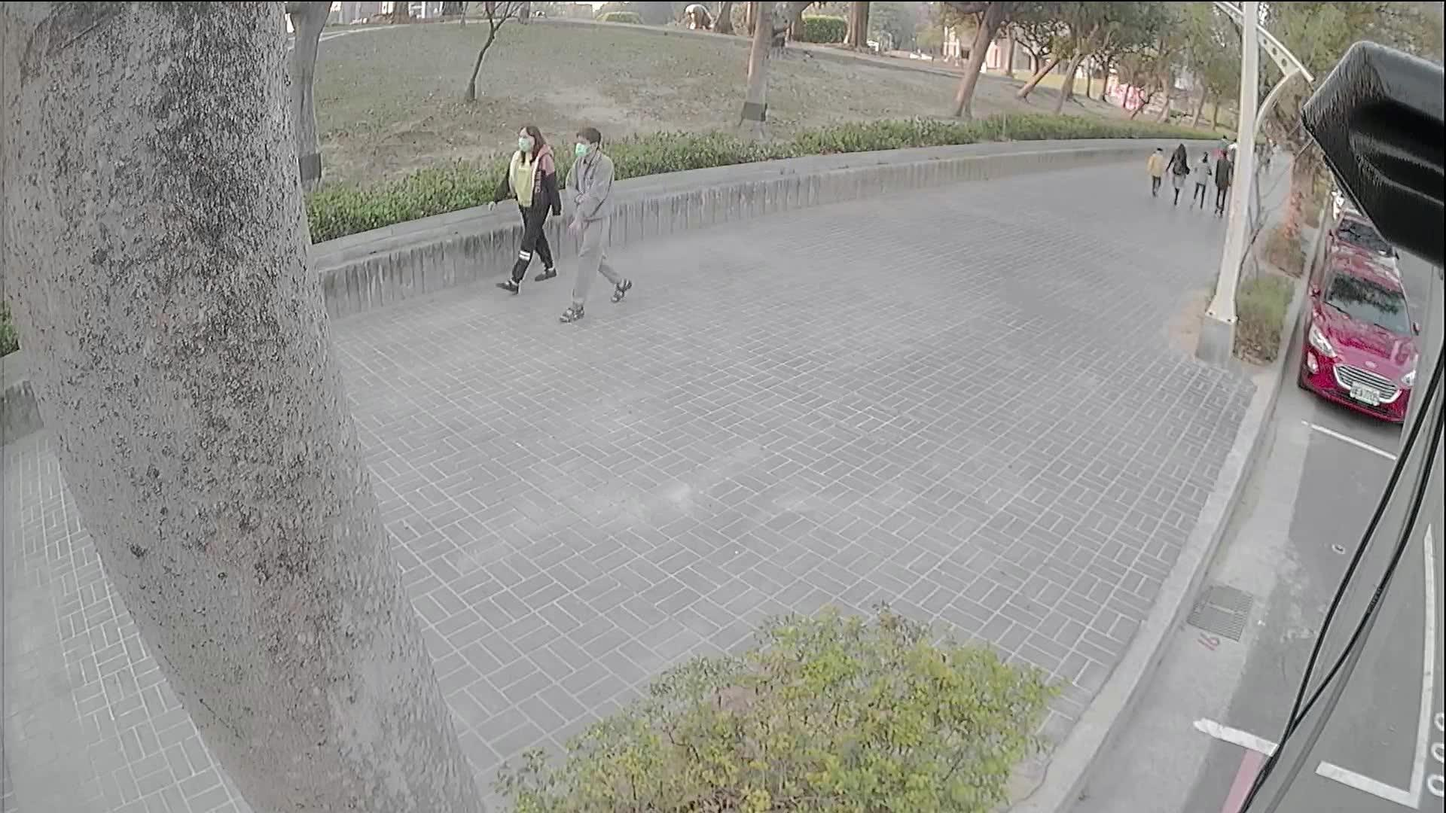person: (565, 127, 627, 319), (487, 128, 556, 293), (1166, 142, 1188, 202), (1214, 149, 1231, 215), (1191, 151, 1210, 206), (1146, 146, 1166, 196)
